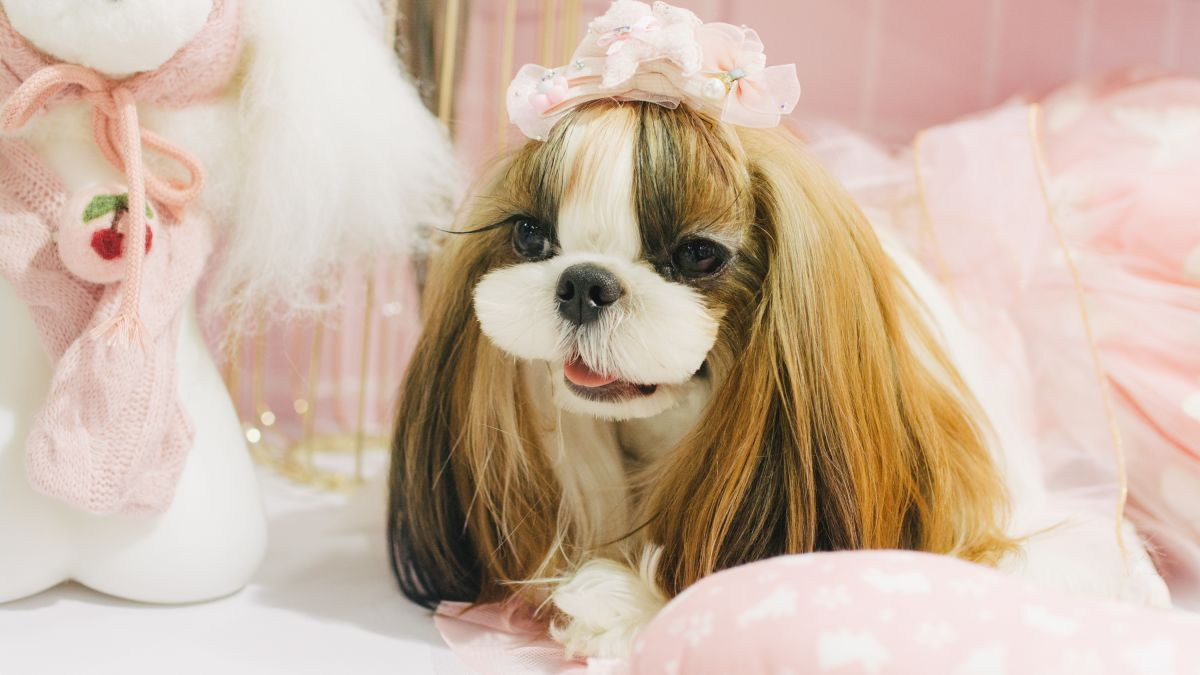pet: (438, 101, 900, 579)
